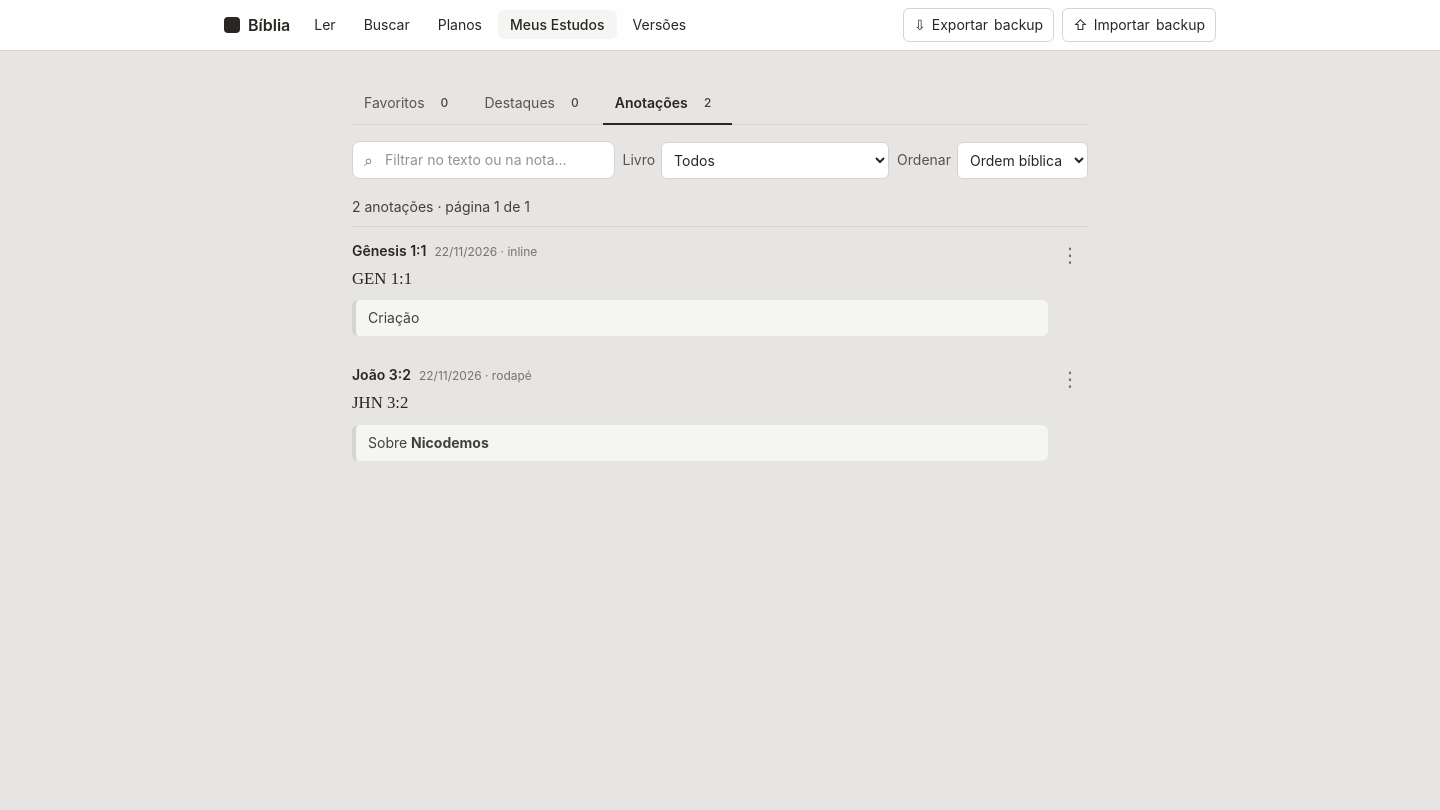
Meus Estudos (UC13) › edita a nota pelo menu (A4)
Expected: the element named "Meus Estudos" is shown, [352, 83, 1088, 125]
Expected: the message shows "2 anotações", [352, 198, 530, 214]
Click the button named "Ações de Gênesis 1:1" at (1070, 255), box [1052, 237, 1088, 273]
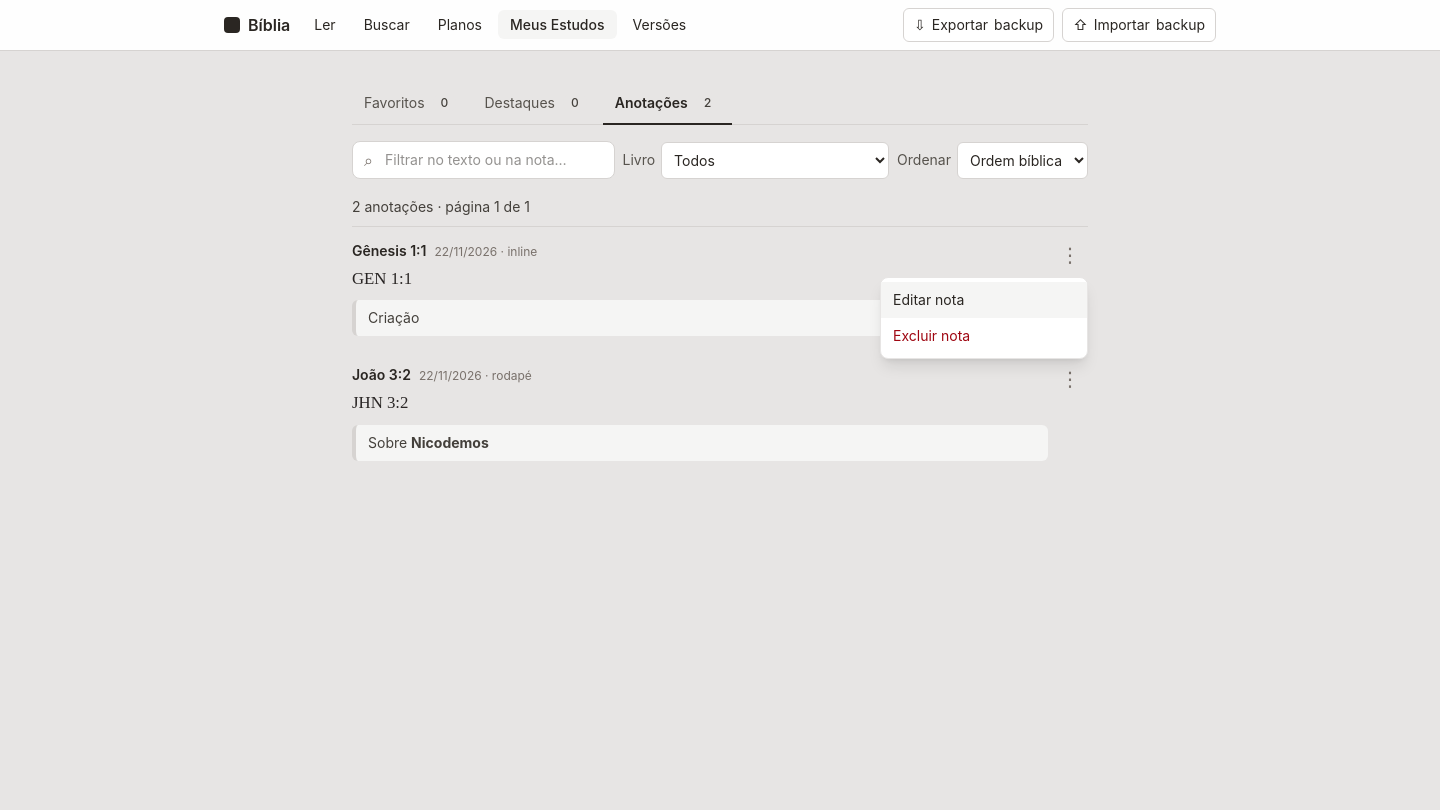
Click the menu item "Editar nota" at (984, 300), box [881, 282, 1087, 318]
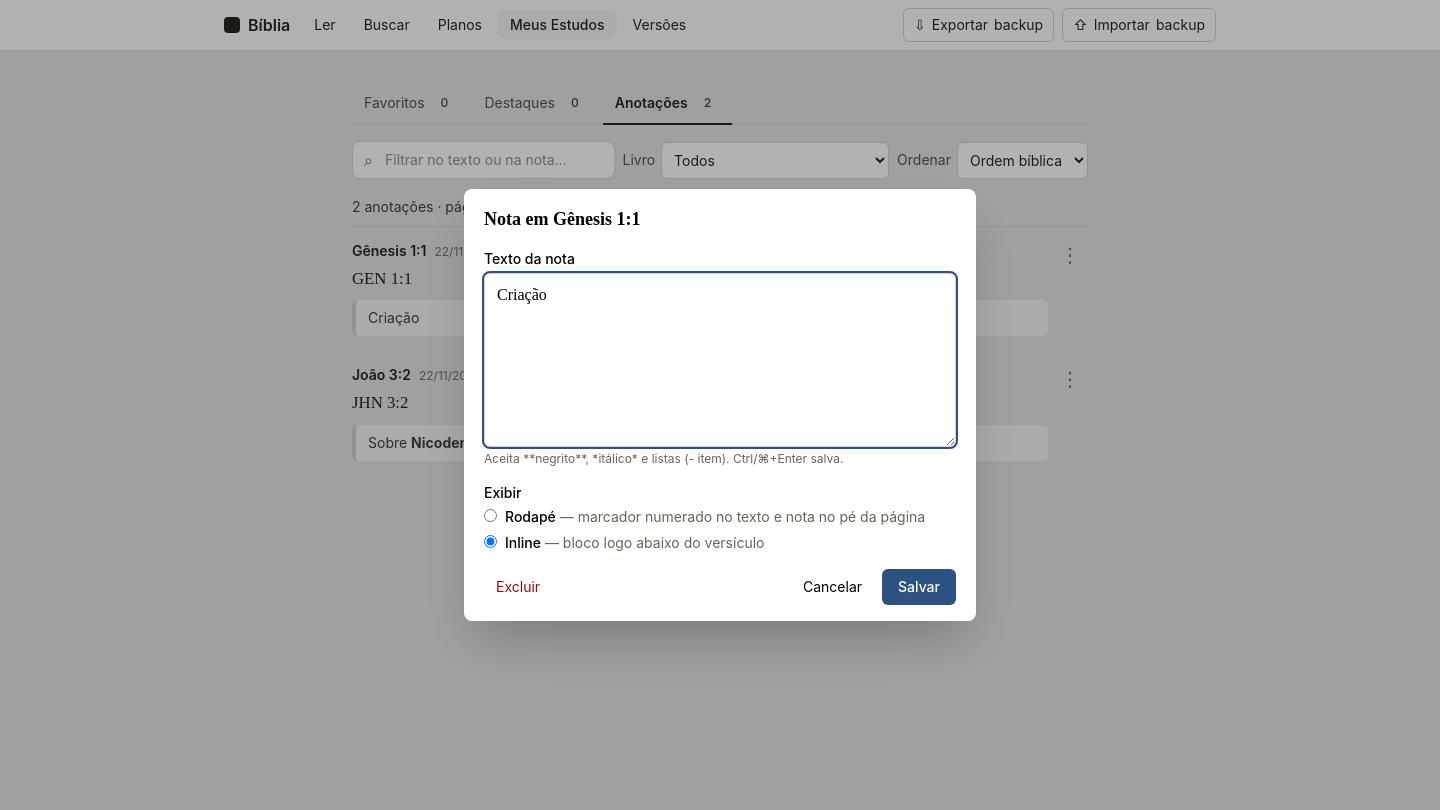
Now the text box labelled "Texto da nota" holds "Criação"
Replace the text in the text box labelled "Texto da nota" with "No princípio" at (720, 360), box [484, 273, 956, 447]
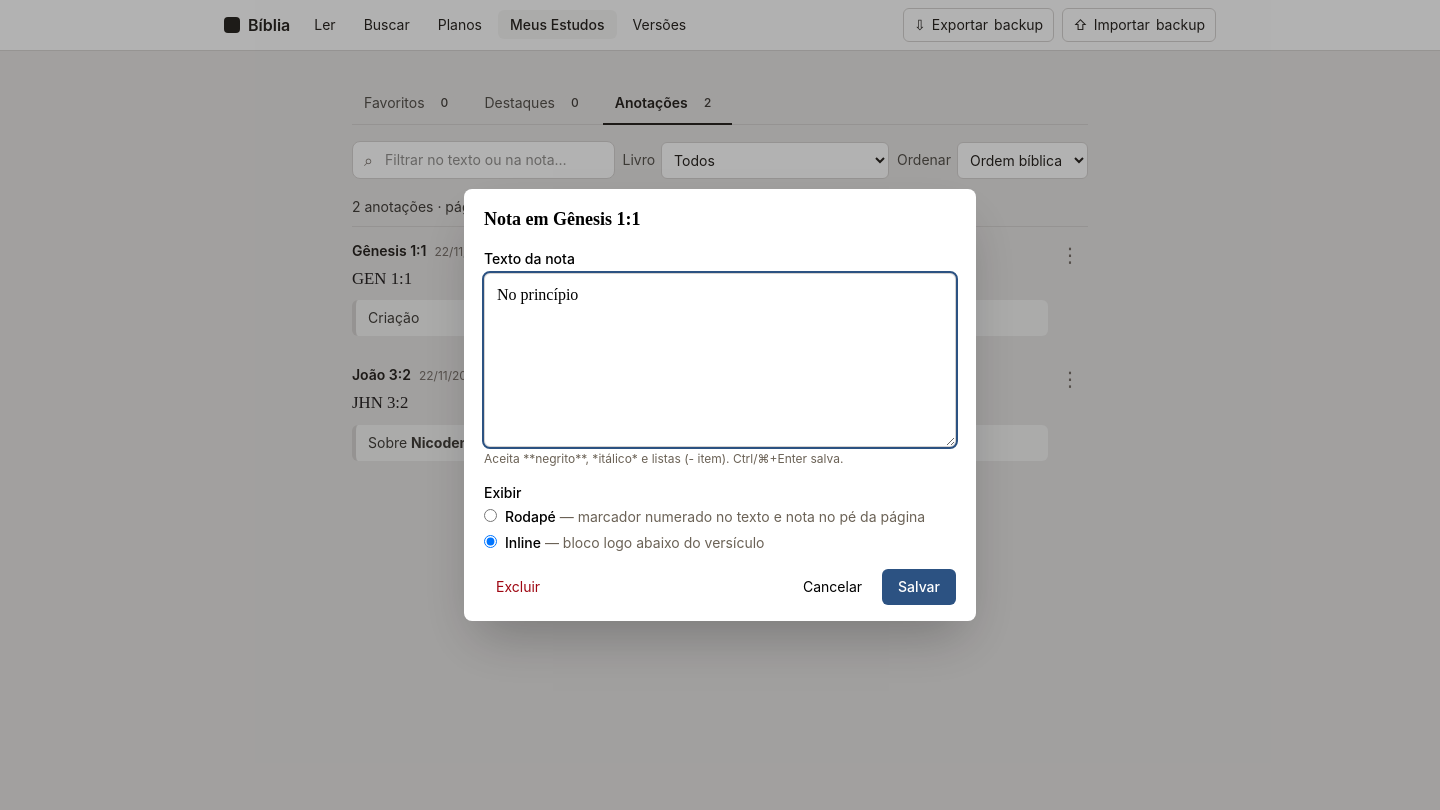
Click the button "Salvar" at (919, 587), box [882, 569, 956, 605]
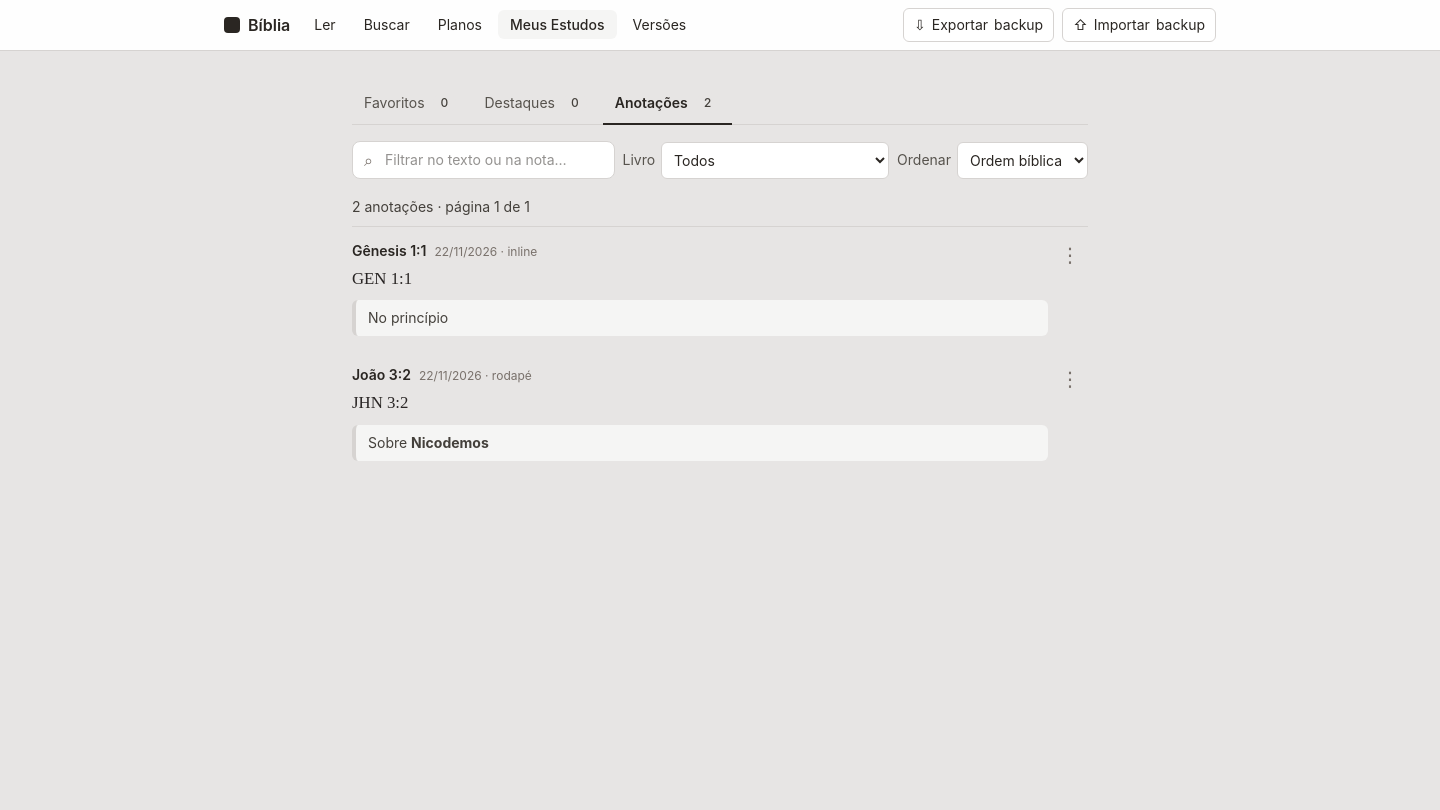
Now the text "No princípio" is shown, box [368, 309, 448, 326]
Now the dialog is gone
